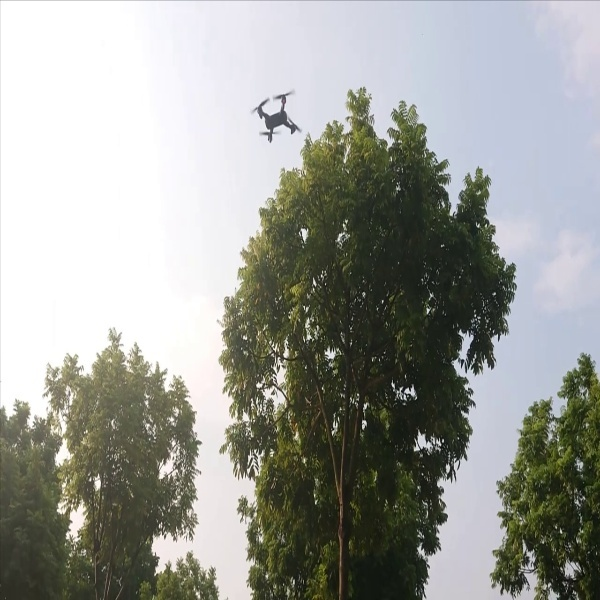drone: (246, 85, 304, 142)
